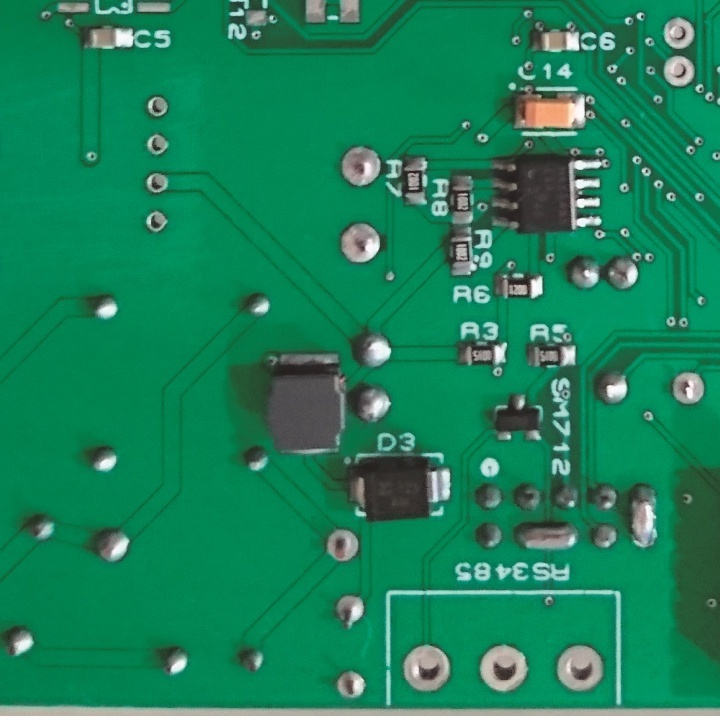F: (476, 643, 533, 693), (399, 643, 453, 695), (555, 642, 607, 696), (337, 143, 385, 189), (339, 220, 383, 267), (324, 524, 363, 567), (669, 369, 710, 407), (661, 16, 699, 52), (332, 592, 367, 629), (661, 53, 696, 87), (334, 669, 370, 701), (143, 167, 173, 198), (144, 91, 172, 120), (144, 132, 173, 158), (143, 208, 170, 235)
P: (627, 480, 662, 553), (512, 520, 581, 555)
